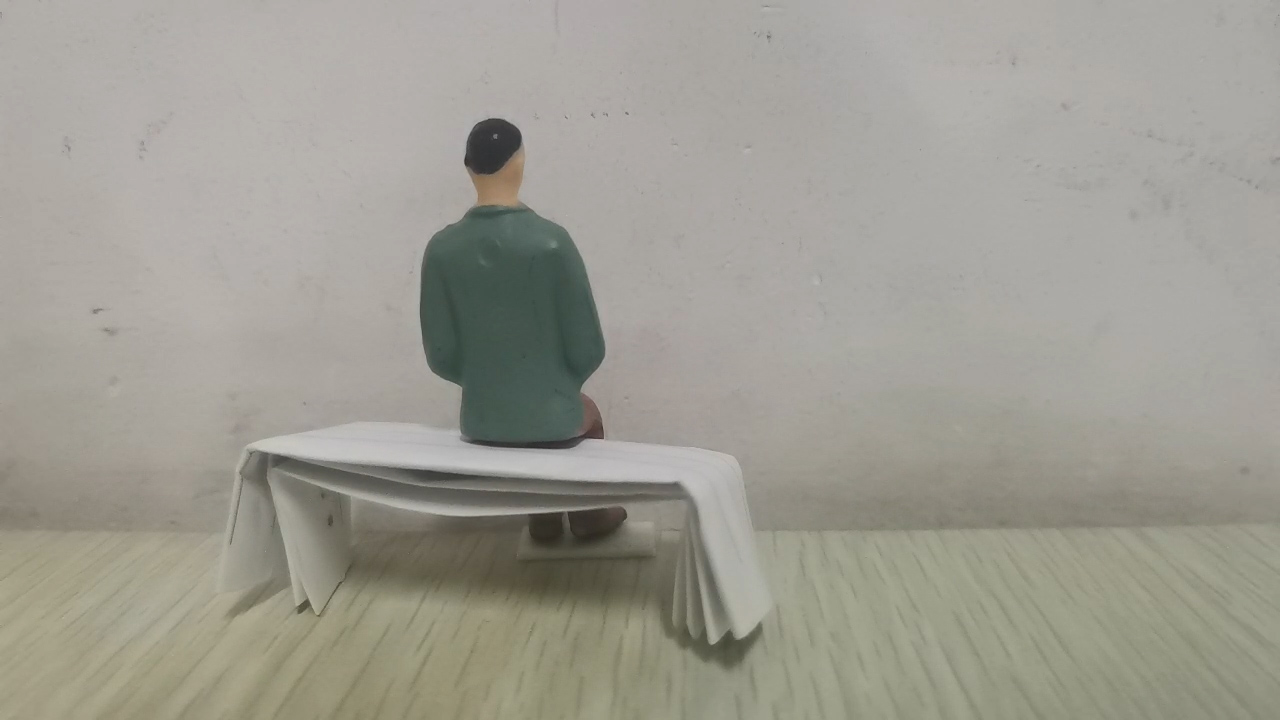person: (415, 116, 630, 548)
